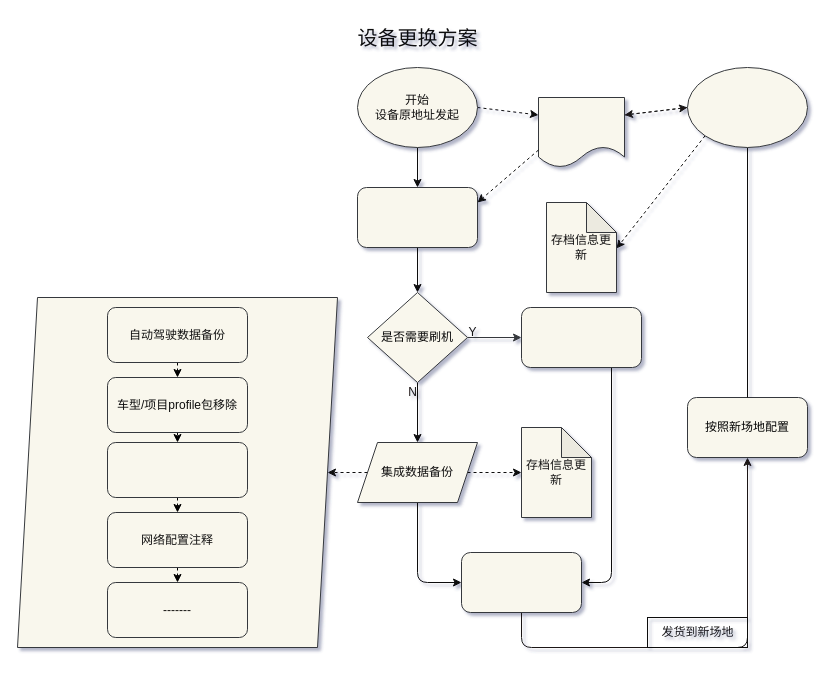
This 831x679 diagram has some shape labels left out. The centre of each missing label's shape, as x and y in pixels:
"MP反注册流程" goes at point 521,582.
"完成" goes at point 747,107.
"设备刷机" goes at point 581,337.
"设备更换 信息提交" goes at point 581,132.
"车辆配置初始化" goes at point 177,470.
"集成 设备检查" goes at point 417,217.
